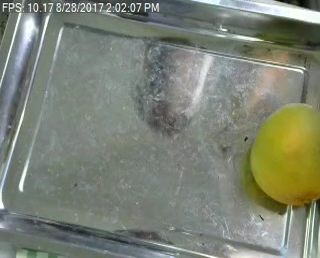Mango: (248, 102, 320, 205)
